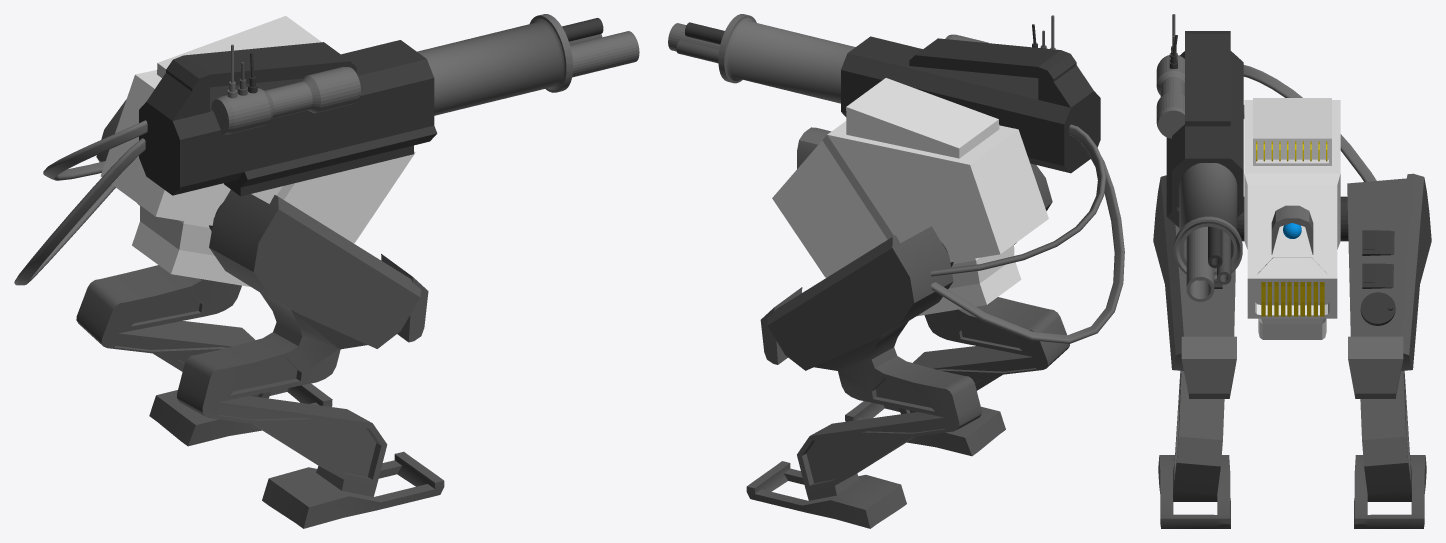
File: mini mex.fbx
3 renders of one model, left to right at view 1: azimuth 30°, elevation 25°; view 2: azimuth 150°, elevation 25°; view 3: azimuth 270°, elevation 25°, orthographic. The views are drawn at different scales.
Parts seen in each view (by area): view 1: Cube.002, Cube.005, Cube, Cylinder.003, Cylinder.006, BézierCurve.001, Cylinder.002, BézierCurve, Cube.003; view 2: Cube.002, Cube, Cube.005, Cylinder.003, BézierCurve.001, BézierCurve, Cube.003, Cube.001, Cylinder.005, Cylinder.004; view 3: Cube.002, Cube, Cube.005, Cube.003, Cylinder.003, Cylinder.006, Cylinder.002, Cube.006, Cube.004, BézierCurve, Cube.001, Cylinder (+4 smaller).
Boxes of the visible parts, x1=… form: Cube.002: x1=76, y1=99, x2=444, y2=528; Cube.005: x1=139, y1=40, x2=437, y2=196; Cube: x1=100, y1=16, x2=415, y2=286; Cylinder.003: x1=417, y1=14, x2=572, y2=115; Cylinder.006: x1=211, y1=67, x2=360, y2=134; BézierCurve.001: x1=14, y1=138, x2=145, y2=285; Cylinder.002: x1=570, y1=31, x2=639, y2=77; BézierCurve: x1=43, y1=120, x2=147, y2=180; Cube.003: x1=381, y1=254, x2=428, y2=342; Cube.002: x1=746, y1=163, x2=1069, y2=528; Cube: x1=772, y1=78, x2=1048, y2=316; Cube.005: x1=841, y1=36, x2=1100, y2=173; Cylinder.003: x1=718, y1=14, x2=855, y2=103; BézierCurve.001: x1=931, y1=143, x2=1124, y2=343; BézierCurve: x1=930, y1=124, x2=1106, y2=276; Cube.003: x1=760, y1=287, x2=802, y2=364; Cube.001: x1=797, y1=127, x2=831, y2=168; Cylinder.005: x1=676, y1=39, x2=719, y2=63; Cylinder.004: x1=685, y1=22, x2=724, y2=44; Cube.002: x1=1153, y1=173, x2=1431, y2=528; Cube: x1=1244, y1=98, x2=1340, y2=339; Cube.005: x1=1166, y1=31, x2=1243, y2=227; Cube.003: x1=1181, y1=336, x2=1403, y2=398; Cylinder.003: x1=1174, y1=163, x2=1242, y2=281; Cylinder.006: x1=1156, y1=55, x2=1184, y2=138; Cylinder.002: x1=1186, y1=226, x2=1214, y2=301; Cube.006: x1=1261, y1=282, x2=1324, y2=316; Cube.004: x1=1214, y1=230, x2=1394, y2=288; BézierCurve: x1=1243, y1=65, x2=1376, y2=181; Cube.001: x1=1271, y1=205, x2=1313, y2=254; Cylinder: x1=1360, y1=292, x2=1395, y2=325.
Bounding box in the file's own units: 1245 × 1056 × 620.
